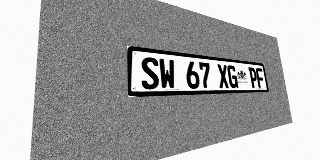6: (185, 61, 200, 89)
7: (198, 62, 212, 89)
F: (255, 68, 265, 88)
G: (227, 65, 238, 88)
P: (248, 67, 258, 88)
S: (140, 56, 160, 89)
W: (158, 58, 176, 89)
X: (217, 64, 229, 88)
